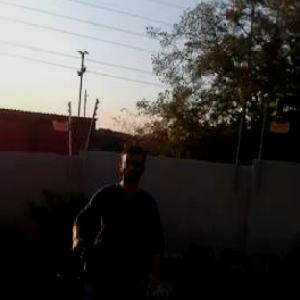follow: (64, 137, 169, 299)
